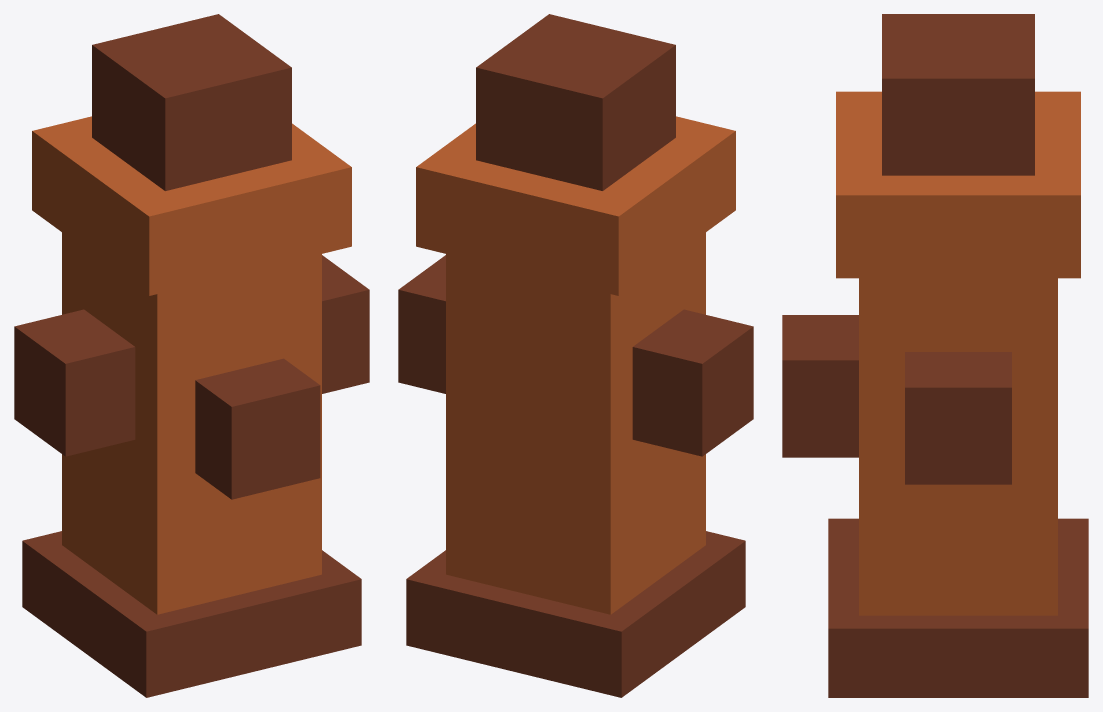
File: fire_hydrant.obj
The picture shows the model from 3 angles, left to right: view 1: azimuth 30°, elevation 25°; view 2: azimuth 150°, elevation 25°; view 3: azimuth 270°, elevation 25°; orthographic projection. The views are drawn at different scales.
Visible parts, largest first — view 1: fire_hydrant; view 2: fire_hydrant; view 3: fire_hydrant.
Part boxes in pixels (left/top/right/bottom): fire_hydrant: left=14, top=14, right=369, bottom=697; fire_hydrant: left=398, top=14, right=753, bottom=697; fire_hydrant: left=782, top=14, right=1088, bottom=697.
Size of the model in its own units: 0.48 by 0.86 by 0.4.
